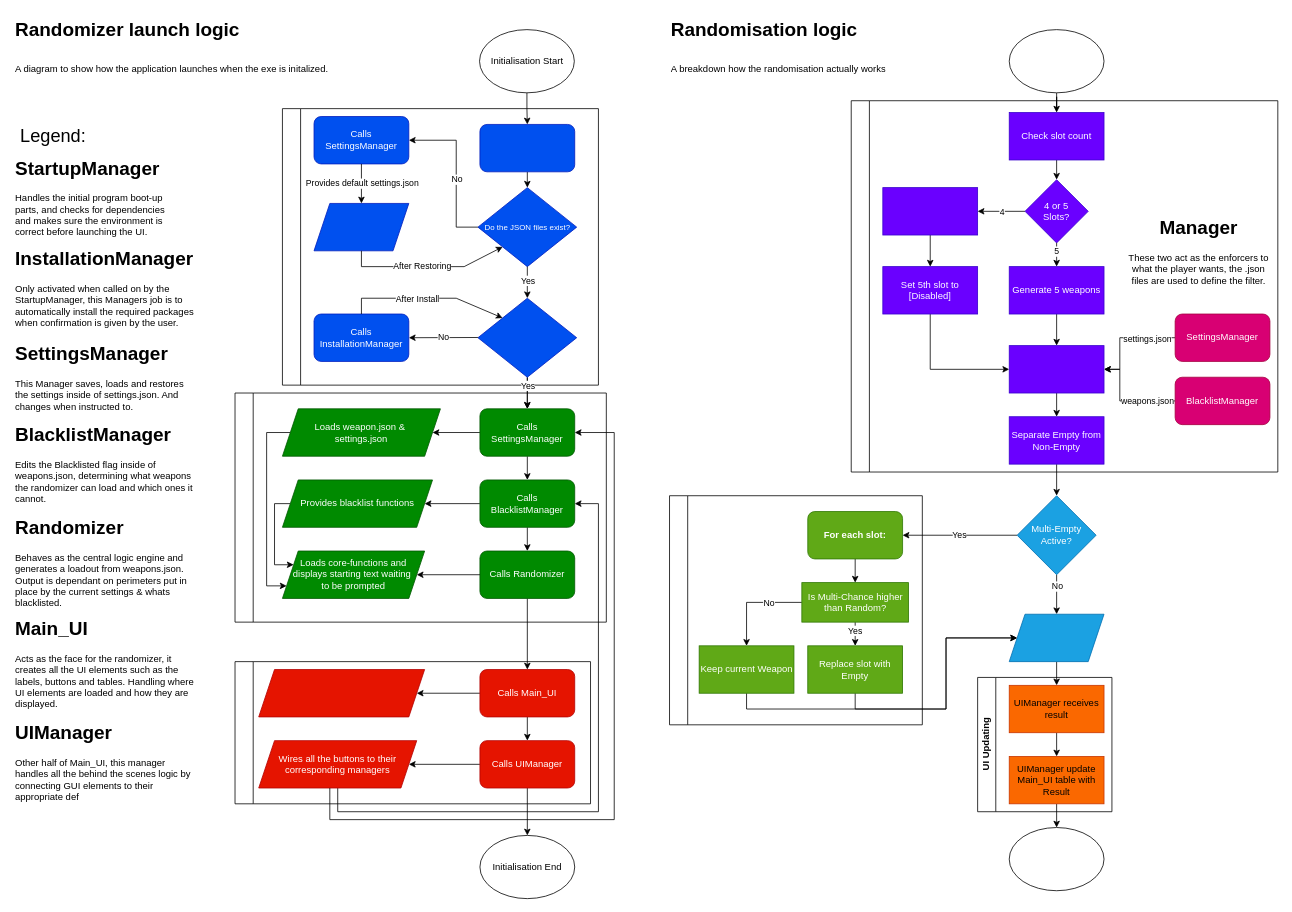
Image size: 1292x912. Some labels were removed from this diagram. The shapes that lost their labels are listed below. From the top down, each one's box as (x1, y1, x2, y2) in pixels, then its label:
(1008, 29, 1104, 93): Randomise Button Pressed
(479, 124, 575, 172): Calls StartupManager
(313, 203, 409, 251): Restore JSON files
(882, 187, 978, 235): Generate 4 weapons
(282, 108, 598, 385): Pre-Initilisation
(850, 100, 1278, 472): Core Logic Main
(477, 297, 577, 377): Is Pillow/Tkinter installed?
(1008, 345, 1104, 393): Filter allowed weapons based on settings
(234, 392, 606, 622): Core Logic
(669, 495, 922, 725): Multi-Chance Logic
(1008, 613, 1104, 662): Enumerate Loadout
(258, 669, 425, 717): Creates buttons, labels and tables and displays the starting text
(234, 661, 591, 804): UI creation
(1008, 827, 1104, 891): Loadout Displayed
